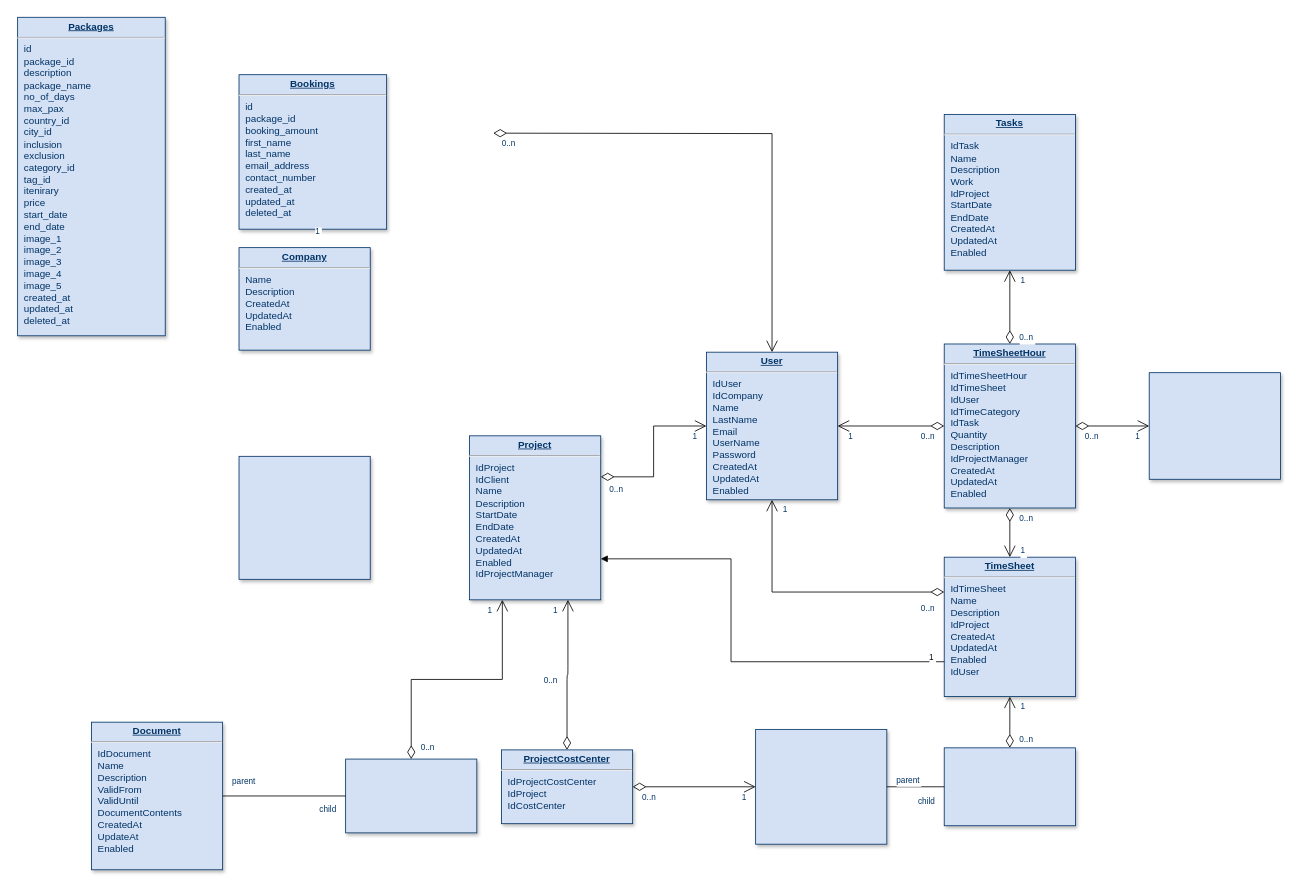
Image size: 1300x891. Some labels were removed from this diagram. Here are the shapes that lost their labels. From the top down, the centre of each, then its label:
At point (1215, 427): "TimeCategory IdTimeCategory Name Description CreatedAt UpdatedAt Enabled".
At point (305, 518): "Client IdClient IdCompany Name Description CreatedAt UpdatedAt Enabled".
At point (412, 797): "ProjectDocument IdProjectDocument IdProject IdDocument".
At point (822, 787): "CostCenter IdCostCenter Name Description CreatedAt UpdatedAt Enabled".
At point (1010, 787): "TimeSheetCostCenter IdTimeSheetCostCenter IdTimeSheet IdCostCenter".
